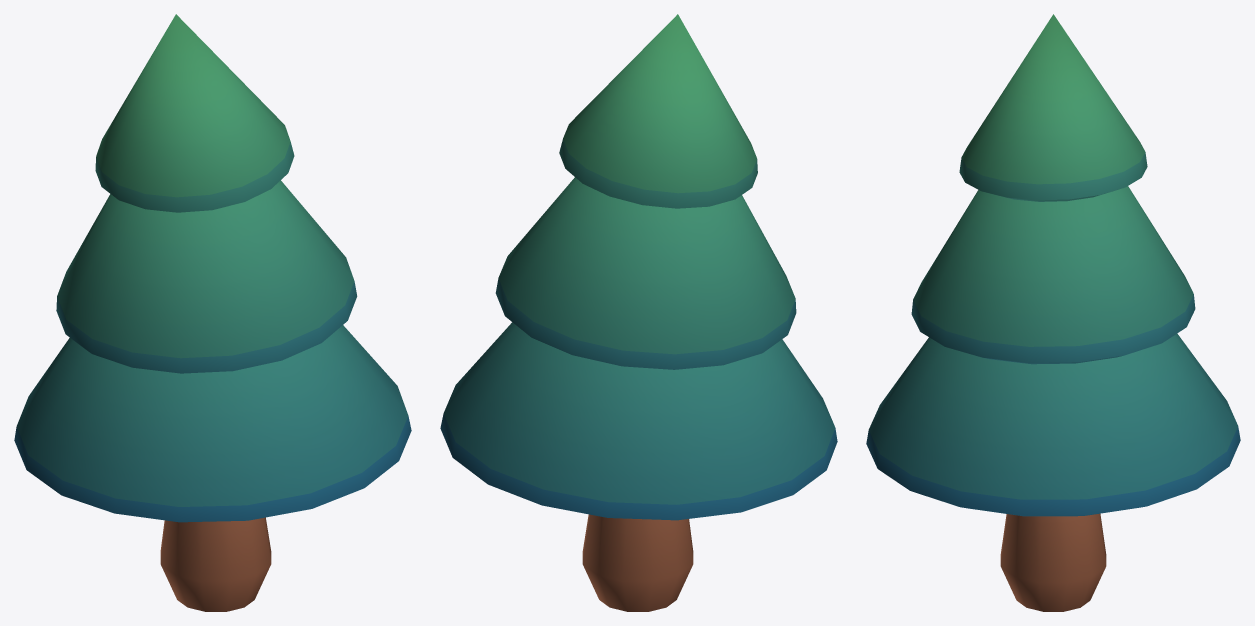
File: tree_large.fbx
3 views of the same model, side by side, from view 1: azimuth 30°, elevation 25°; view 2: azimuth 150°, elevation 25°; view 3: azimuth 270°, elevation 25° (orthographic). The views are drawn at different scales.
Parts seen in each view (by area): view 1: tree_large; view 2: tree_large; view 3: tree_large.
Part boxes in pixels (x1,y1,x2,y2): tree_large: [14, 14, 411, 611]; tree_large: [440, 14, 837, 611]; tree_large: [866, 14, 1240, 611].
Size of the model in its own units: 2.84 by 4.71 by 2.84.
